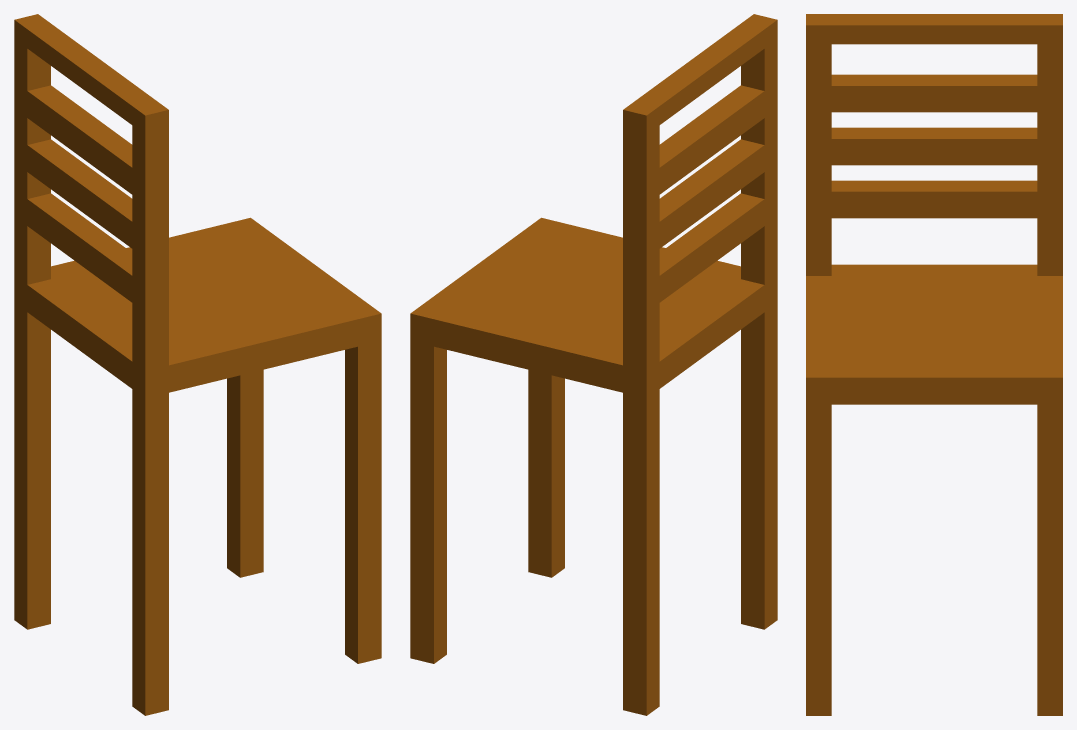
Rendered from Chair.fbx.
The picture shows the model from 3 angles, left to right: view 1: azimuth 30°, elevation 25°; view 2: azimuth 150°, elevation 25°; view 3: azimuth 270°, elevation 25°; orthographic projection.
Parts seen in each view (by area): view 1: Chair; view 2: Chair; view 3: Chair.
Part boxes in pixels (x1,y1,x2,y2): Chair: [14, 14, 381, 715]; Chair: [410, 14, 777, 715]; Chair: [806, 14, 1062, 715].
Size of the model in its own units: 42.26 by 103 by 40.54.
